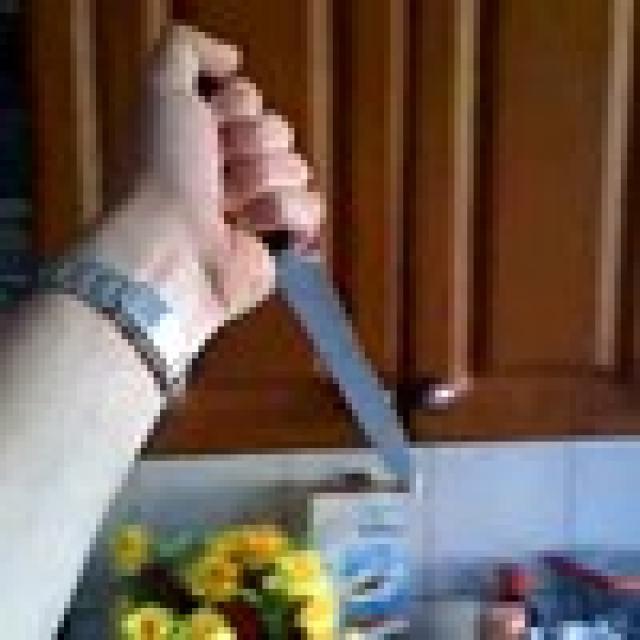Knife: (198, 70, 416, 480)
